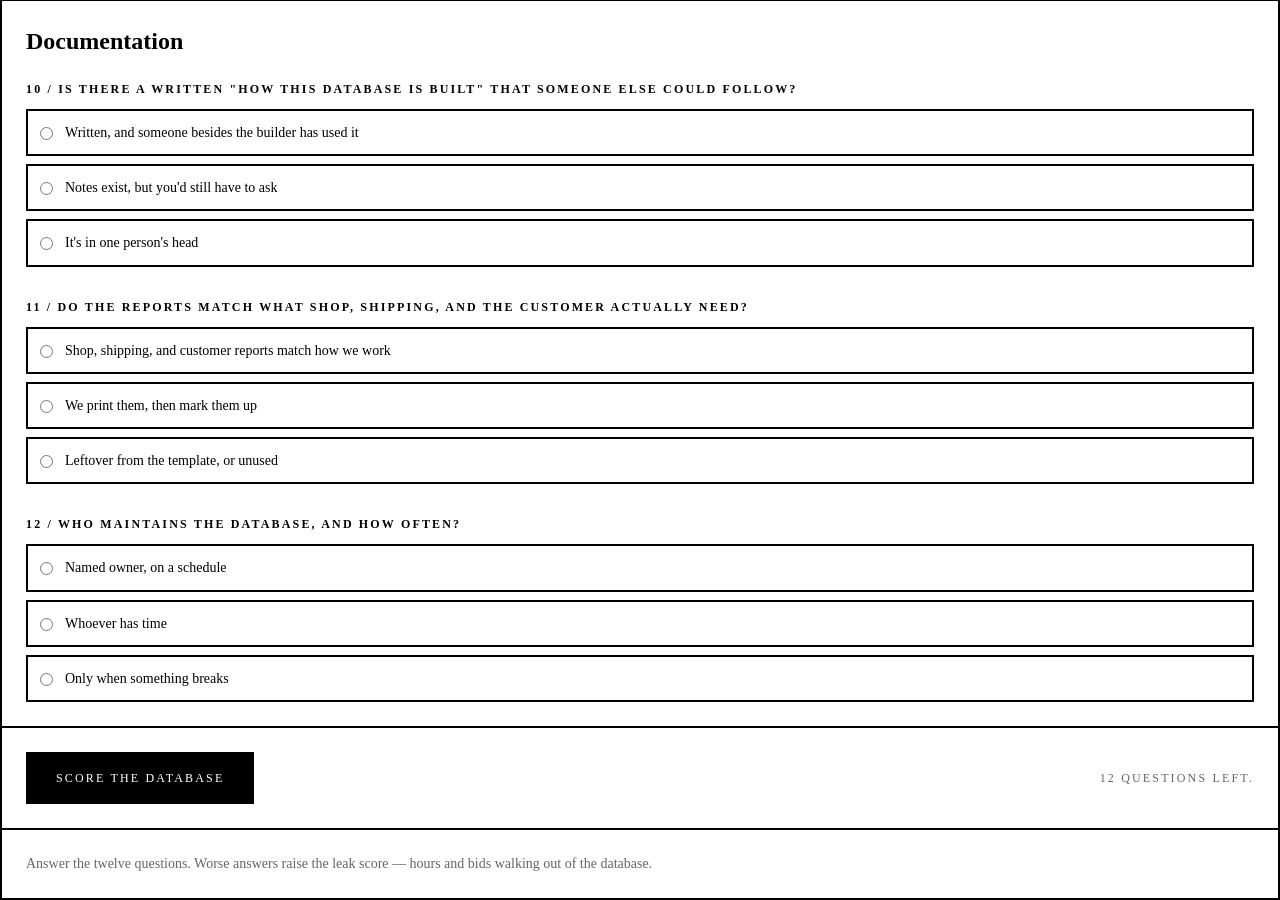
Scenario: DatabaseDiagnostic › asks for the remaining questions instead of posting
This screenshot has width=1280, height=900.
(page scrolled)
Click the button "Score the database".
click(140, 778)  # box [26,752,254,804]
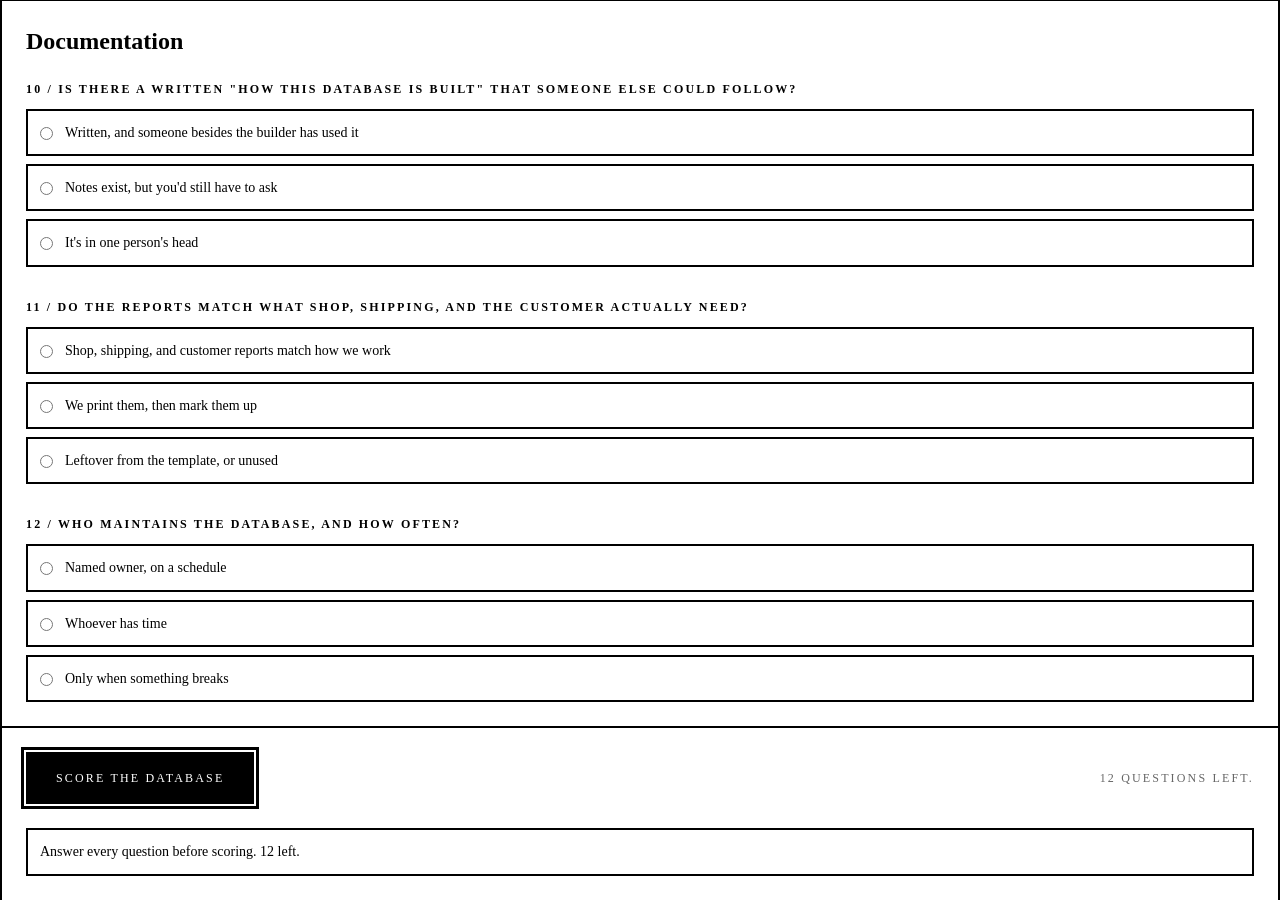
Now the message shows "Answer every question", box [40,844,300,859]
